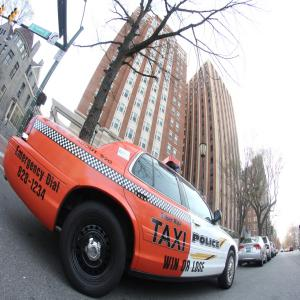Vehicle-registration-plate: (247, 249, 252, 252)
